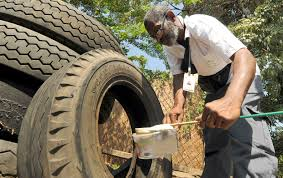tire: (17, 49, 173, 177)
